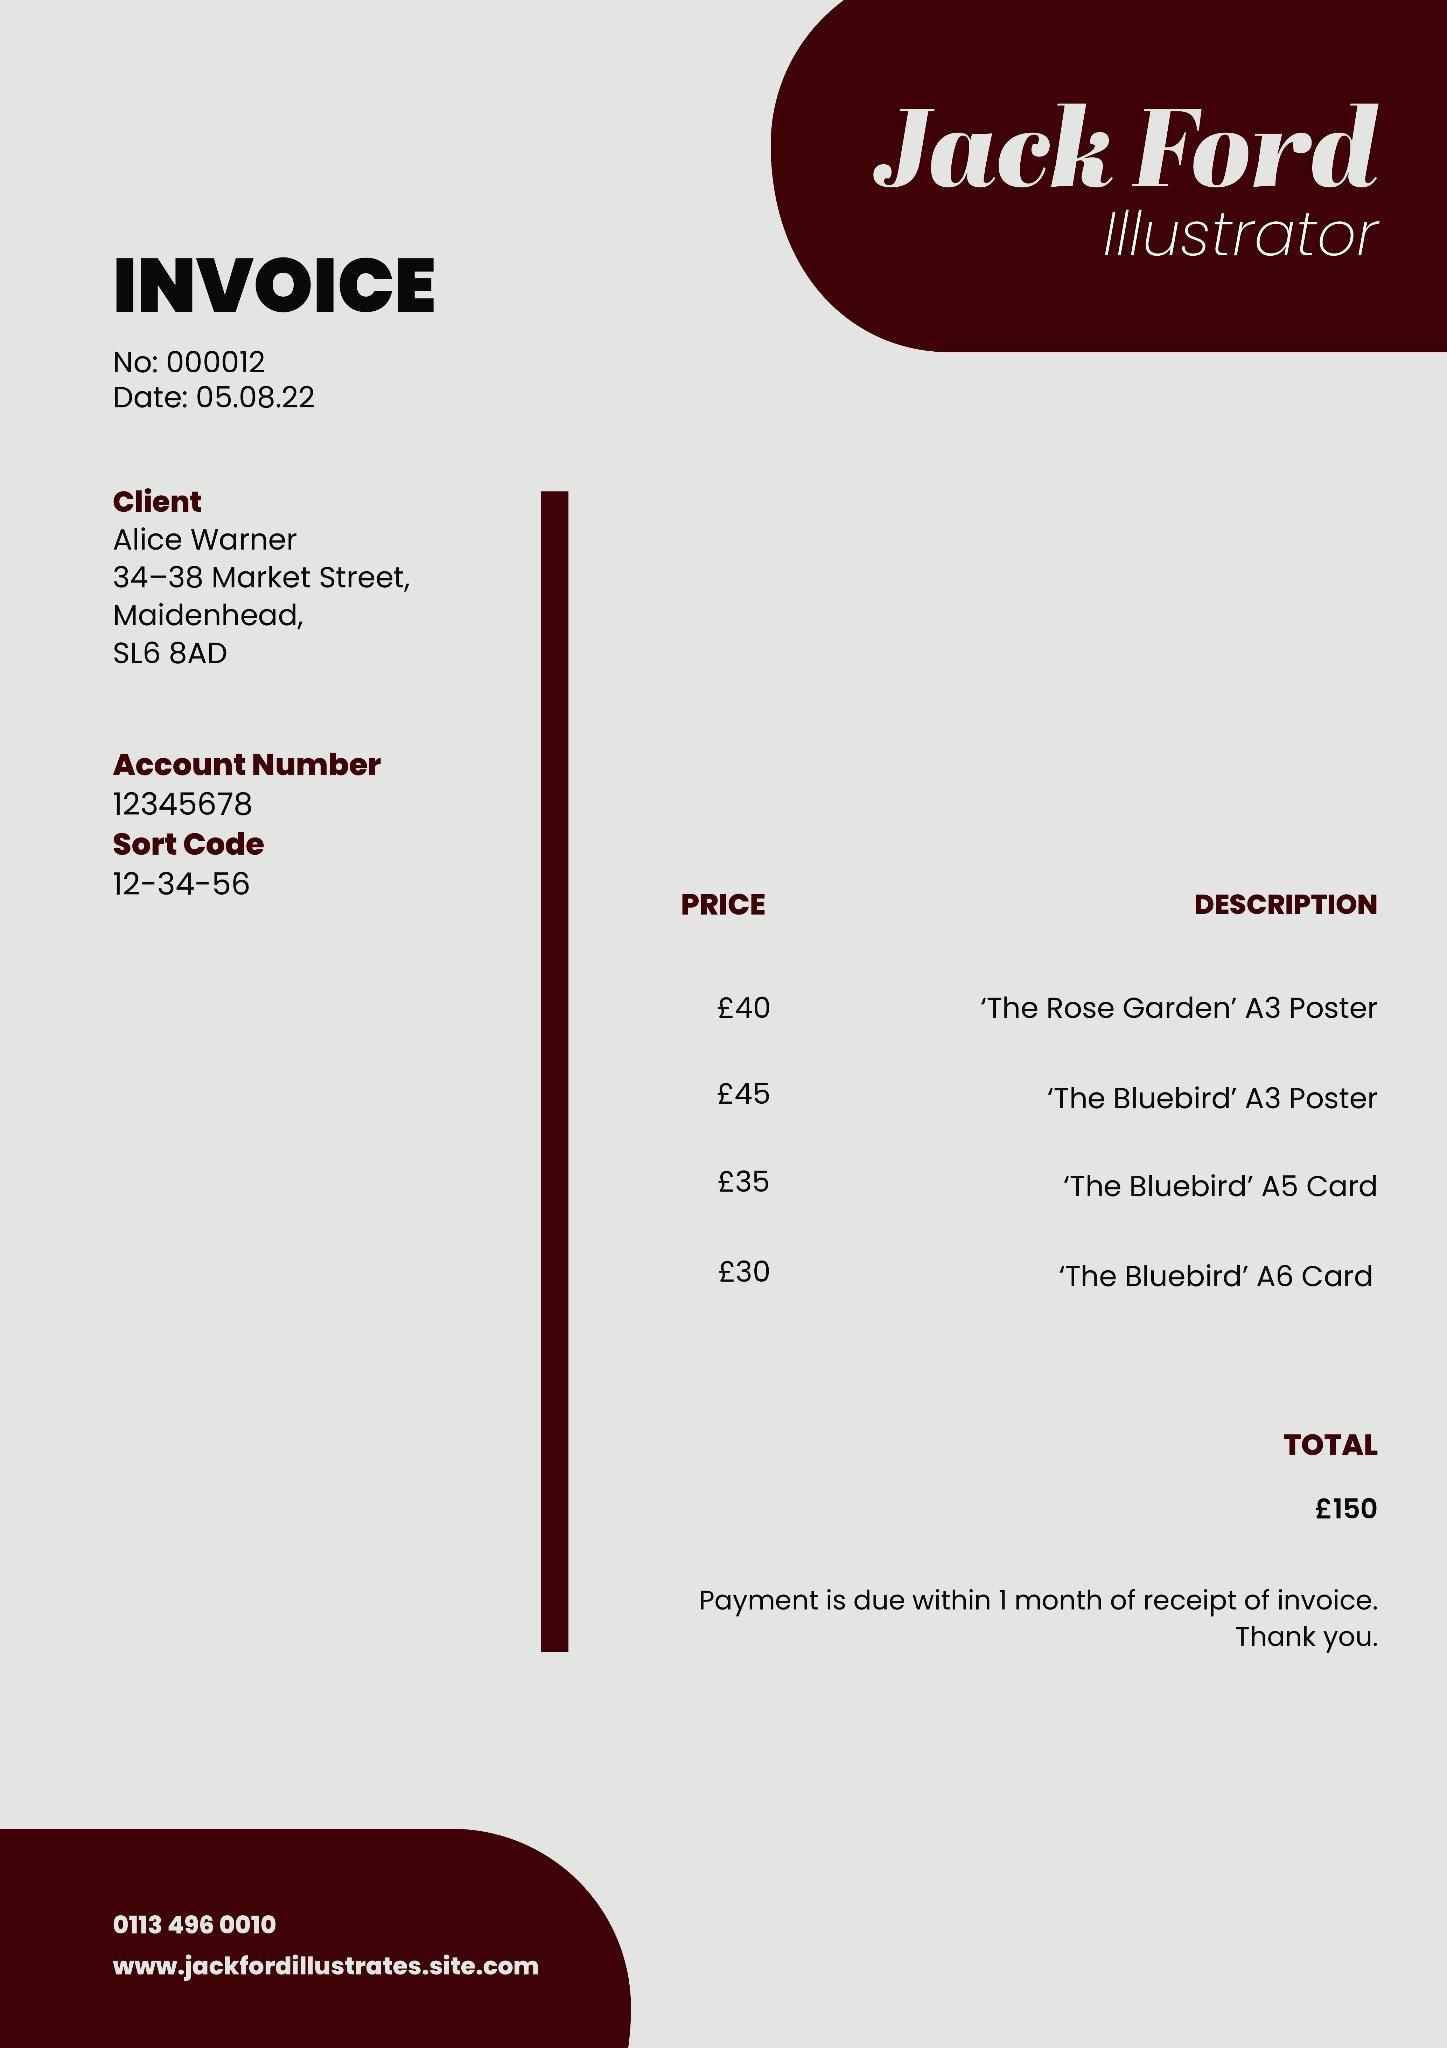ROI: (630, 814, 1400, 1336), (846, 56, 1409, 319), (667, 1559, 1409, 1671), (67, 474, 448, 680), (89, 720, 423, 918), (77, 1882, 564, 2004), (83, 229, 475, 334), (1218, 1408, 1413, 1547), (81, 344, 345, 420)
